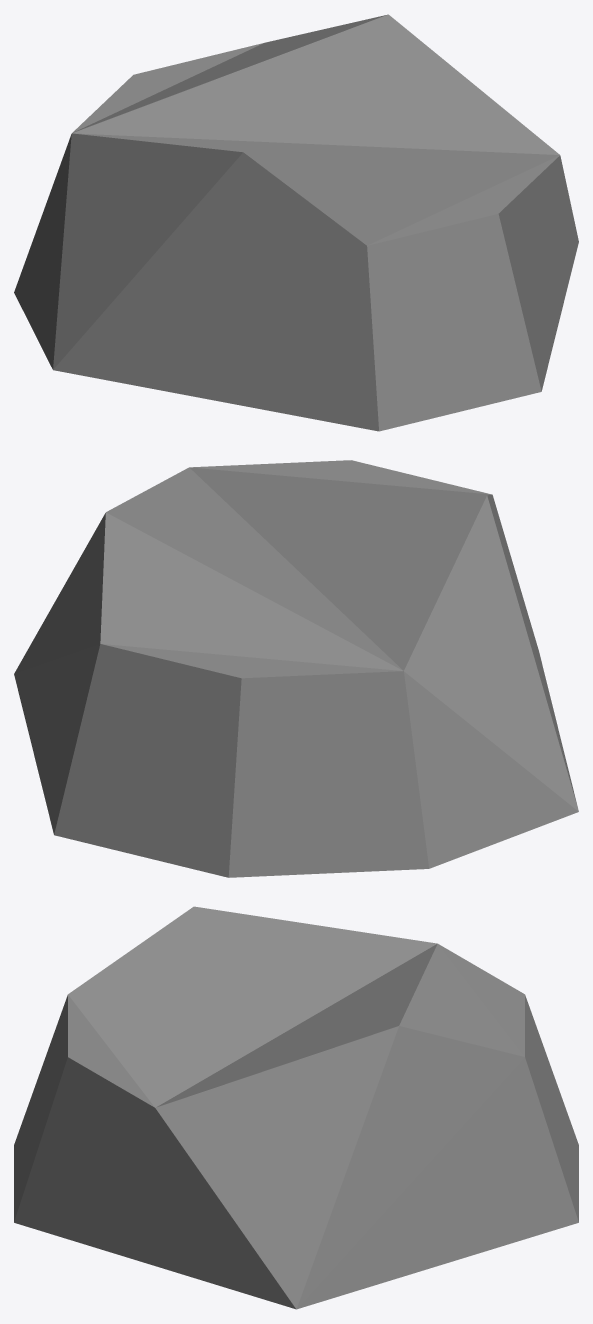
Rendered from Rock 4.fbx.
The picture shows the model from 3 angles, top to bottom: view 1: azimuth 30°, elevation 25°; view 2: azimuth 150°, elevation 25°; view 3: azimuth 270°, elevation 25°; orthographic projection. The views are drawn at different scales.
Visible parts, largest first — view 1: Rock_4; view 2: Rock_4; view 3: Rock_4.
Part boxes in pixels (x1,y1,x2,y2): Rock_4: (14,14,578,431); Rock_4: (14,460,578,877); Rock_4: (14,906,578,1309).
Size of the model in its own units: 53.35 by 21.58 by 50.74.
1 material, 1 textured.
